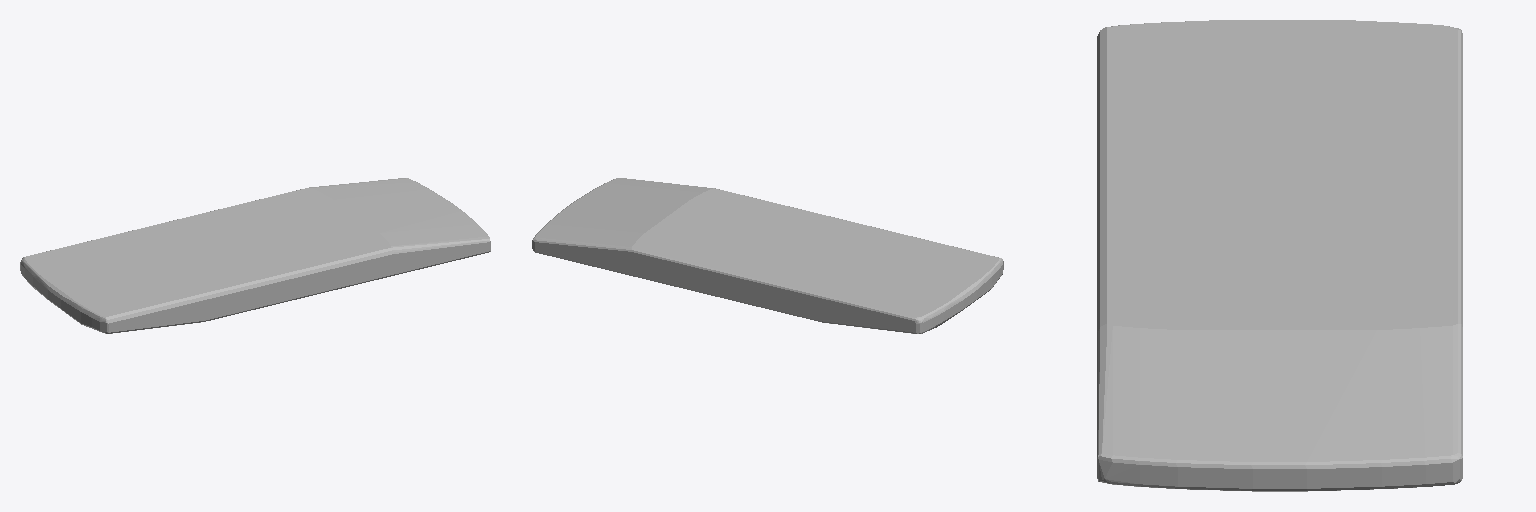
robot.urdf — root:
<robot name="root">
  <link name="link_coacd_convex_piece_0">
    <inertial>
      <origin xyz="0 0 0" rpy="0 0 0"/>
      <inertia ixx="4.43E-03" ixy="3.40E-07" ixz="4.29E-04" iyy="2.71E-02" iyz="-2.79E-06" izz="3.12E-02"/>
    </inertial>
    <visual>
      <origin xyz="0 0 0" rpy="0 0 0"/>
      <geometry>
        <mesh filename="coacd_convex_piece_0.obj" scale="1.0000E+00 1.0000E+00 1.0000E+00"/>
      </geometry>
      <material name="">
        <color rgba="7.50E-01 7.50E-01 7.50E-01 1"/>
      </material>
    </visual>
    <collision>
      <origin xyz="0 0 0" rpy="0 0 0"/>
      <geometry>
        <mesh filename="coacd_convex_piece_0.obj" scale="1.0000E+00 1.0000E+00 1.0000E+00"/>
      </geometry>
    </collision>
  </link>
</robot>

--- Render facts (derived) ---
3 views of the same robot in one strip: view 1: azimuth 30°, elevation 25°; view 2: azimuth 150°, elevation 25°; view 3: azimuth 270°, elevation 25° (orthographic).
Robot: root — 1 links, 0 joints (none); root link link_coacd_convex_piece_0; default pose: every joint at zero.
Visible links, largest first — view 1: link_coacd_convex_piece_0; view 2: link_coacd_convex_piece_0; view 3: link_coacd_convex_piece_0.
Boxes of the visible links, x1,y1,x2,y2 form: link_coacd_convex_piece_0: (20,178,490,333); link_coacd_convex_piece_0: (532,178,1003,333); link_coacd_convex_piece_0: (1097,20,1462,491).
Size in the robot's own frame: 1.9 by 0.7025 by 0.124 metres.
1 mesh visuals loaded from 1 distinct referenced files (1 OBJ).
